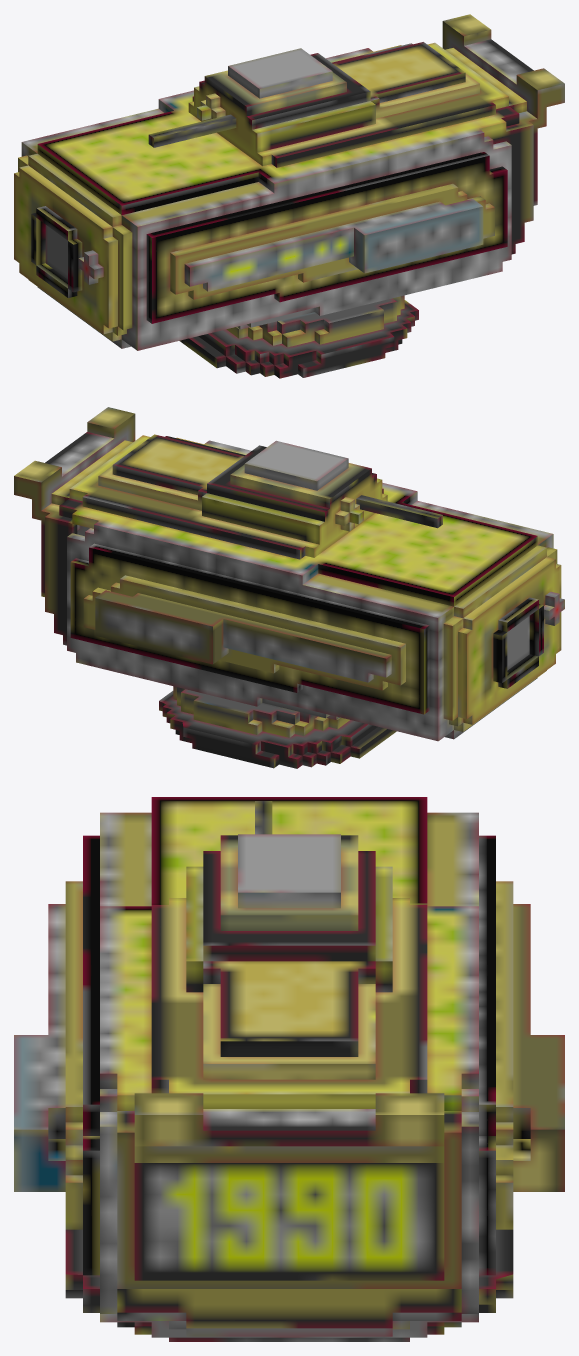
The model's file is Player .fbx.
3 views of the same model, one above another, from view 1: azimuth 30°, elevation 25°; view 2: azimuth 150°, elevation 25°; view 3: azimuth 270°, elevation 25° (orthographic). The views are drawn at different scales.
Visible parts, largest first — view 1: Untitled; view 2: Untitled; view 3: Untitled.
Boxes of the visible parts, x1=… form: Untitled: x1=14, y1=14, x2=564, y2=378; Untitled: x1=14, y1=407, x2=564, y2=768; Untitled: x1=14, y1=797, x2=564, y2=1341.
Size of the model in its own units: 510 by 260 by 320.
1 material, 1 textured.
